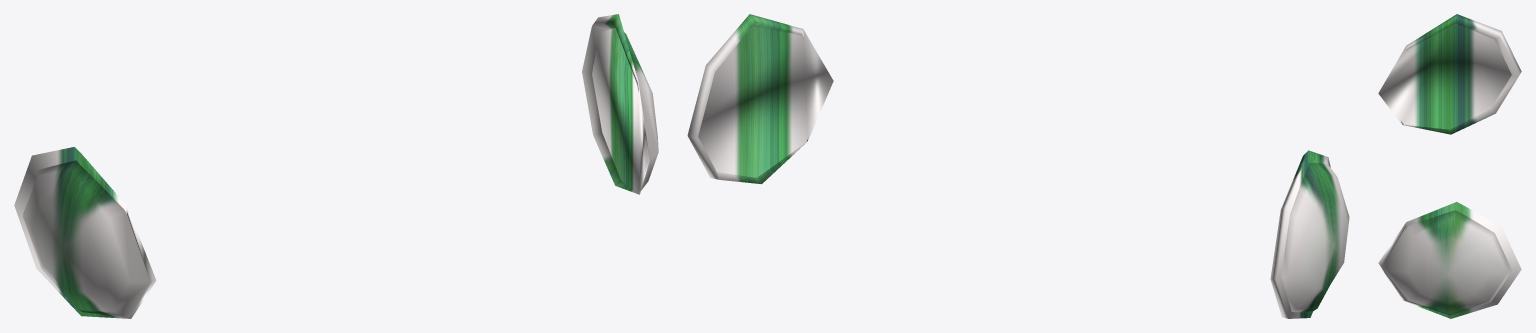
Rendered from ojos.obj.
3 renders of one model, left to right at view 1: azimuth 30°, elevation 25°; view 2: azimuth 150°, elevation 25°; view 3: azimuth 270°, elevation 25°, orthographic. The views are drawn at different scales.
Parts seen in each view (by area): view 1: Ojos; view 2: Ojos; view 3: Ojos.
Part boxes in pixels (left/top/right/bottom): Ojos: left=14, top=14, right=658, bottom=318; Ojos: left=687, top=14, right=1349, bottom=318; Ojos: left=1378, top=14, right=1521, bottom=318.
Bounding box in the file's own units: 0.3616 × 0.0984 × 0.1084.
1 material, 1 textured.
